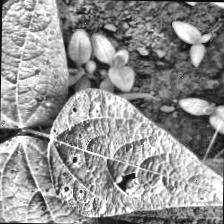ALS: (55, 93, 224, 221), (0, 0, 90, 127), (0, 131, 110, 224)
